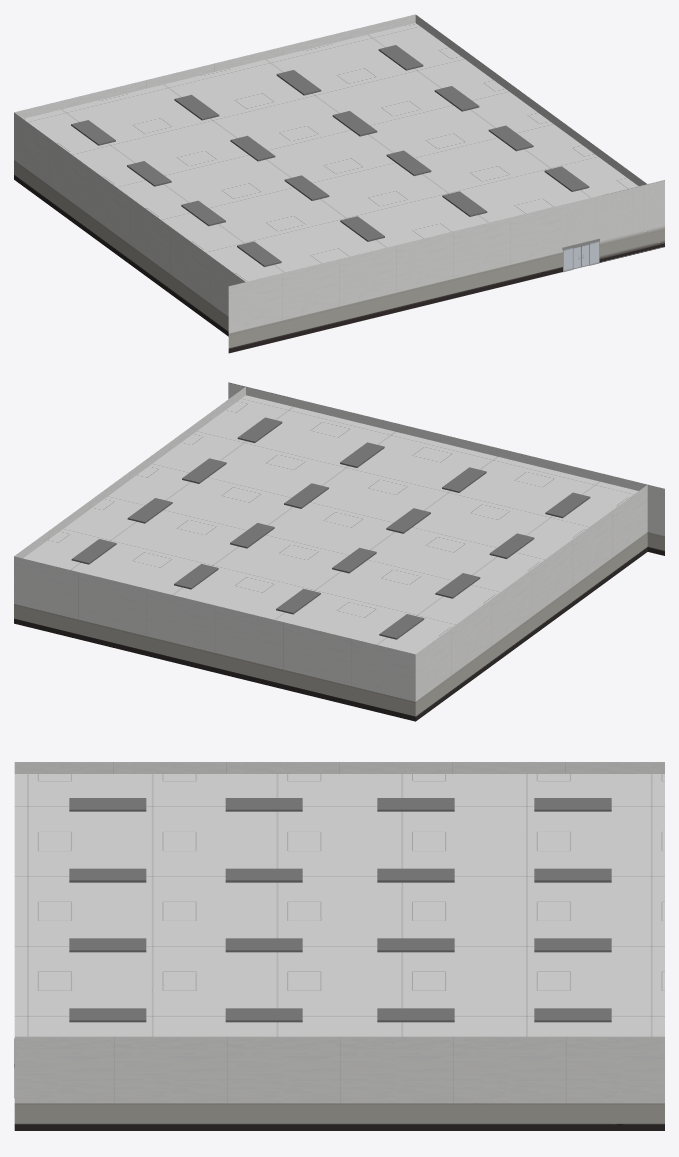
Rendered from fierd05.fbx.
3 views of the same model, one above another, from view 1: azimuth 30°, elevation 25°; view 2: azimuth 150°, elevation 25°; view 3: azimuth 270°, elevation 25° (orthographic). The views are drawn at different scales.
Visible parts, largest first — view 1: tenjyou, wall_yoko02, wall_tate1, light2, wall_yoko1, wall_tate2, door; view 2: tenjyou, wall_yoko1, wall_tate1, light2, wall_yoko02, wall_tate2; view 3: tenjyou, wall_tate2, light2, wall_tate1.
Part boxes in pixels (x1=…): tenjyou: x1=23, y1=23, x2=638, y2=281; wall_yoko02: x1=228, y1=180, x2=664, y2=353; wall_tate1: x1=14, y1=112, x2=245, y2=336; light2: x1=71, y1=45, x2=589, y2=266; wall_yoko1: x1=14, y1=14, x2=415, y2=118; wall_tate2: x1=415, y1=15, x2=646, y2=185; door: x1=562, y1=238, x2=599, y2=272; tenjyou: x1=23, y1=395, x2=638, y2=654; wall_yoko1: x1=14, y1=556, x2=415, y2=721; wall_tate1: x1=415, y1=485, x2=647, y2=721; light2: x1=71, y1=417, x2=590, y2=639; wall_yoko02: x1=228, y1=382, x2=664, y2=555; wall_tate2: x1=14, y1=387, x2=245, y2=558; tenjyou: x1=14, y1=774, x2=664, y2=1036; wall_tate2: x1=14, y1=1036, x2=664, y2=1130; light2: x1=69, y1=798, x2=611, y2=1022; wall_tate1: x1=14, y1=762, x2=664, y2=773.
Bounding box in the file's own units: 5433 × 802 × 5005.
Materials: 8 (5 with a texture image).
